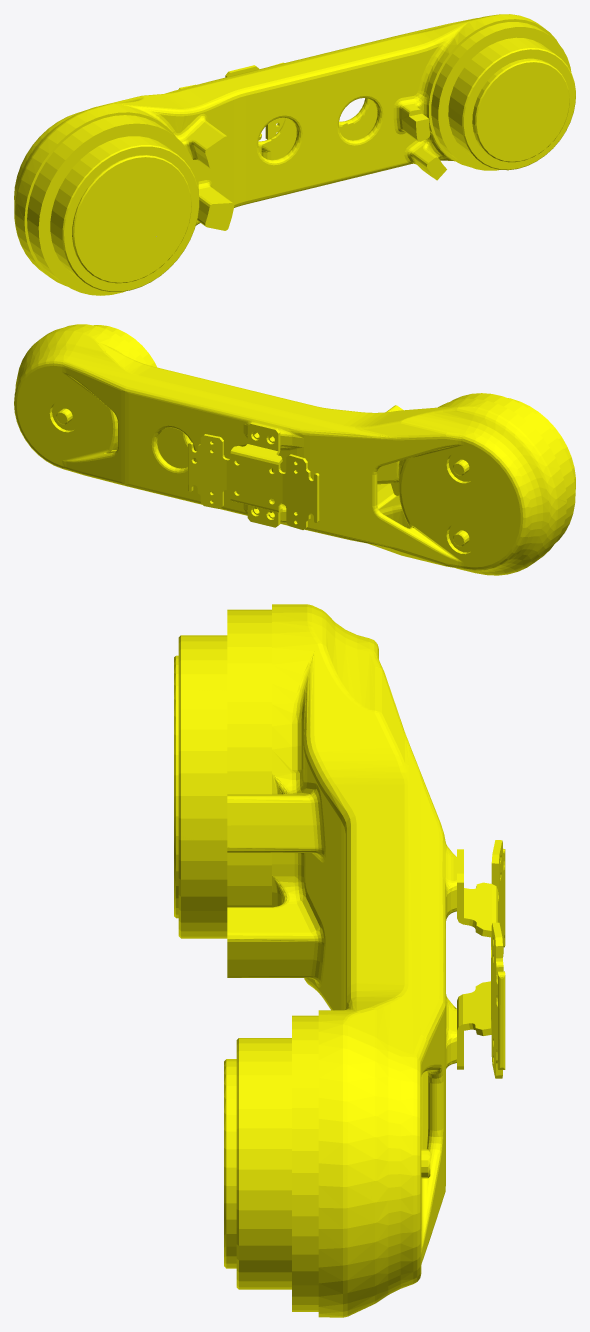
3 views of the same model, one above another, from view 1: azimuth 30°, elevation 25°; view 2: azimuth 150°, elevation 25°; view 3: azimuth 270°, elevation 25° (orthographic). The views are drawn at different scales.
Visible parts, largest first — view 1: node; view 2: node; view 3: node.
Boxes of the visible parts, x1,y1,x2,y2 form: node: (14, 14, 575, 295); node: (14, 324, 575, 575); node: (174, 604, 505, 1317).
Bounding box in the file's own units: 551 × 164 × 189.
